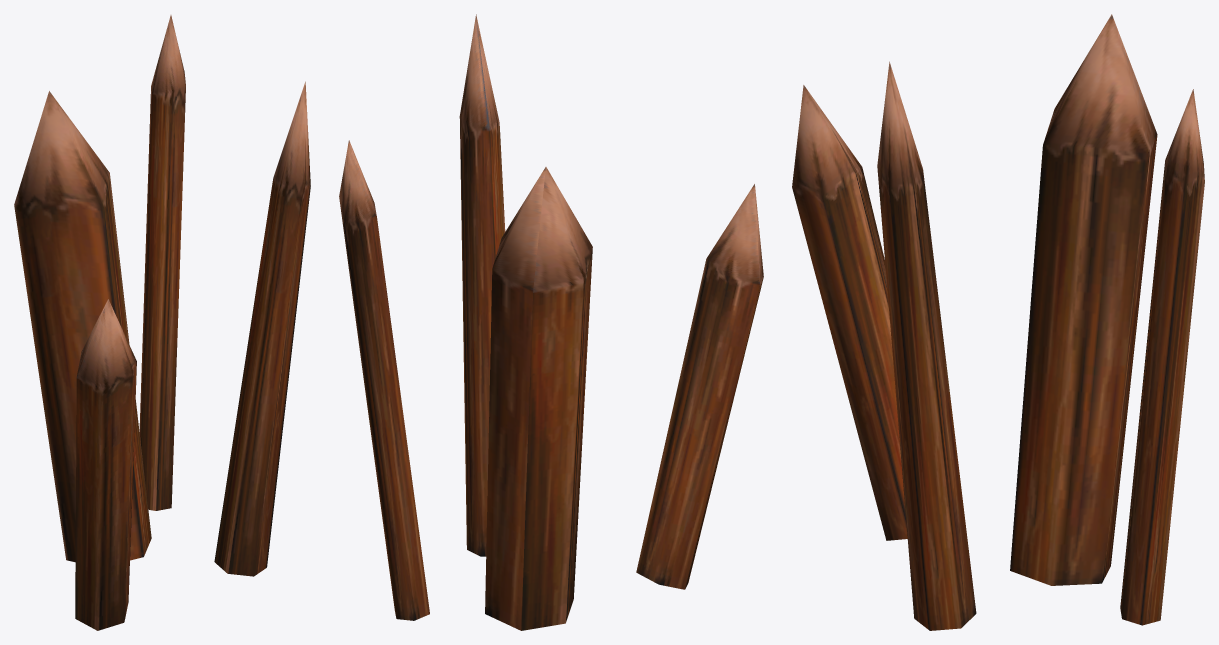
File: battlegladewoodspikes.obj
The picture shows the model from 3 angles, left to right: view 1: azimuth 30°, elevation 25°; view 2: azimuth 150°, elevation 25°; view 3: azimuth 270°, elevation 25°; orthographic projection. The views are drawn at different scales.
Visible parts, largest first — view 1: battlegladewoodspikes; view 2: battlegladewoodspikes; view 3: battlegladewoodspikes.
Boxes of the visible parts, bbox=[...] form: battlegladewoodspikes: bbox=[14, 15, 310, 630]; battlegladewoodspikes: bbox=[339, 14, 763, 630]; battlegladewoodspikes: bbox=[792, 14, 1204, 630].
Bounding box in the file's own units: 1.29 × 2.38 × 1.51.
Materials: 1 (1 with a texture image).
